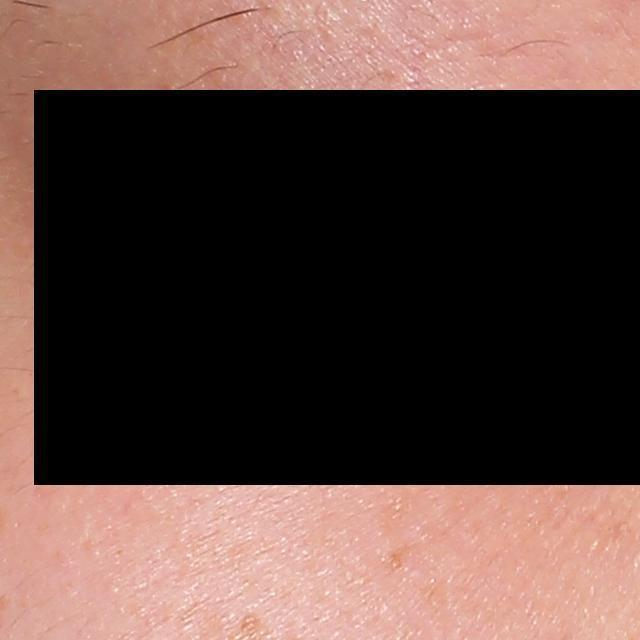melasma: (371, 476, 423, 540), (379, 543, 408, 569)
